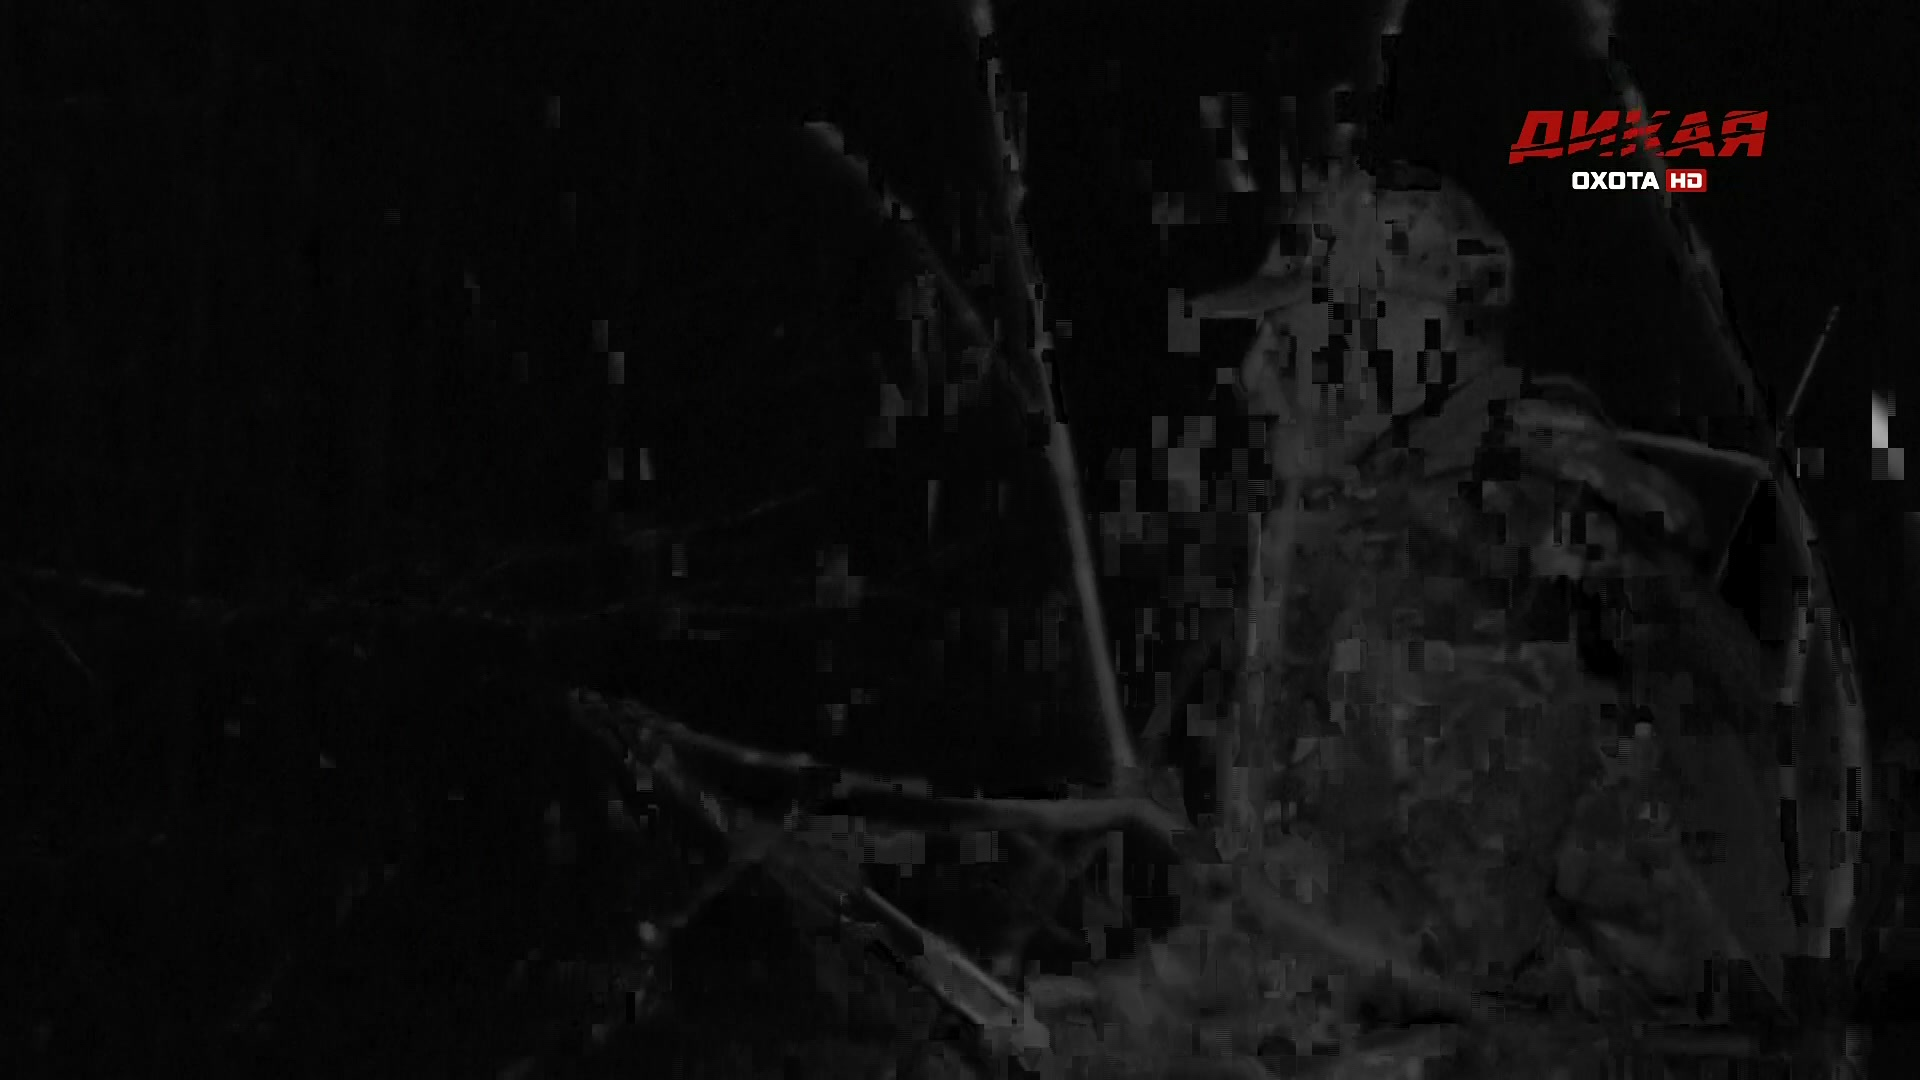Dikaya_Ohota_HD: (1503, 103, 1774, 200)
